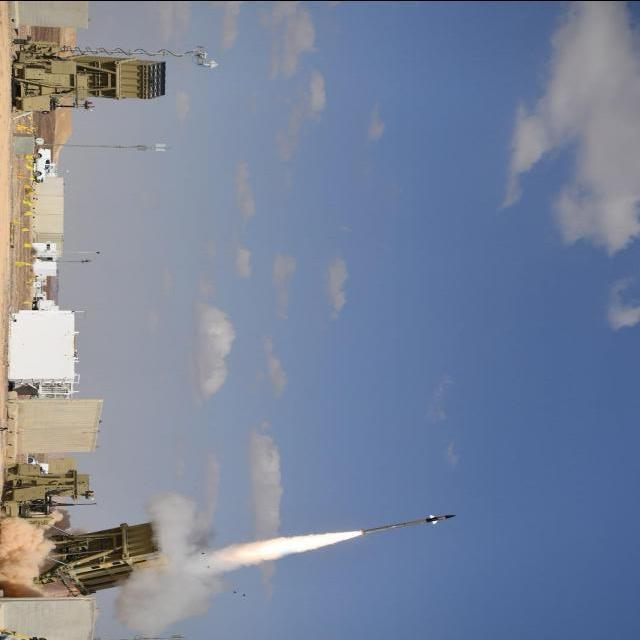missile: (356, 501, 456, 540)
